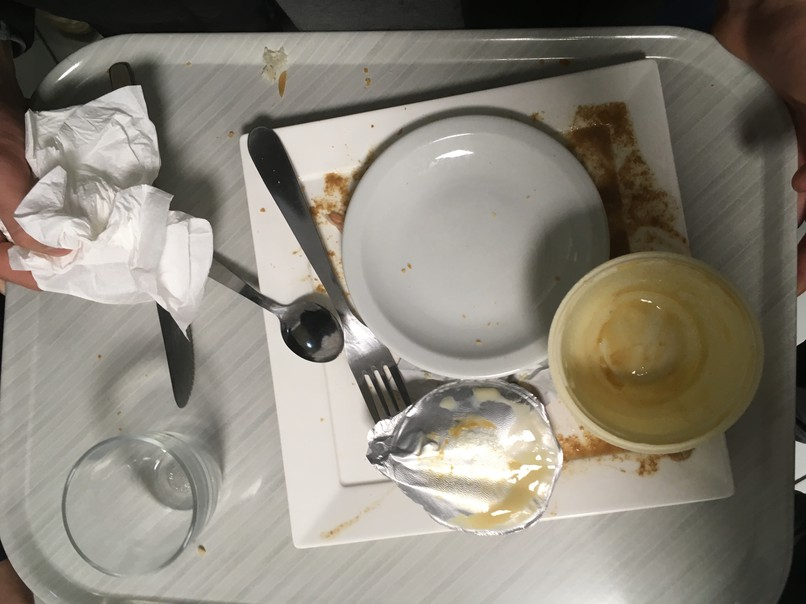cup: (42, 428, 243, 583)
cutlery: (242, 122, 415, 421), (197, 255, 347, 373), (140, 304, 206, 415)
trash: (21, 95, 213, 327), (574, 244, 765, 448), (378, 376, 559, 542)
